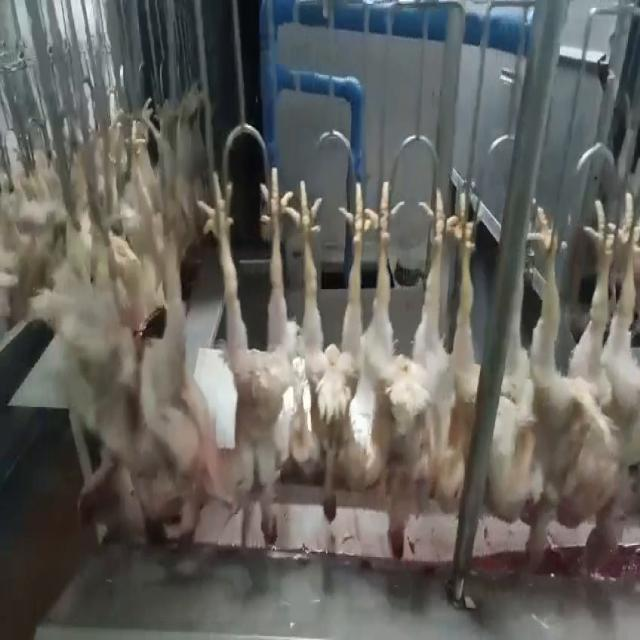chicken: (360, 180, 462, 566), (515, 200, 602, 572), (216, 163, 294, 547), (286, 178, 374, 518), (576, 175, 637, 574), (138, 200, 202, 545), (430, 189, 489, 521)
